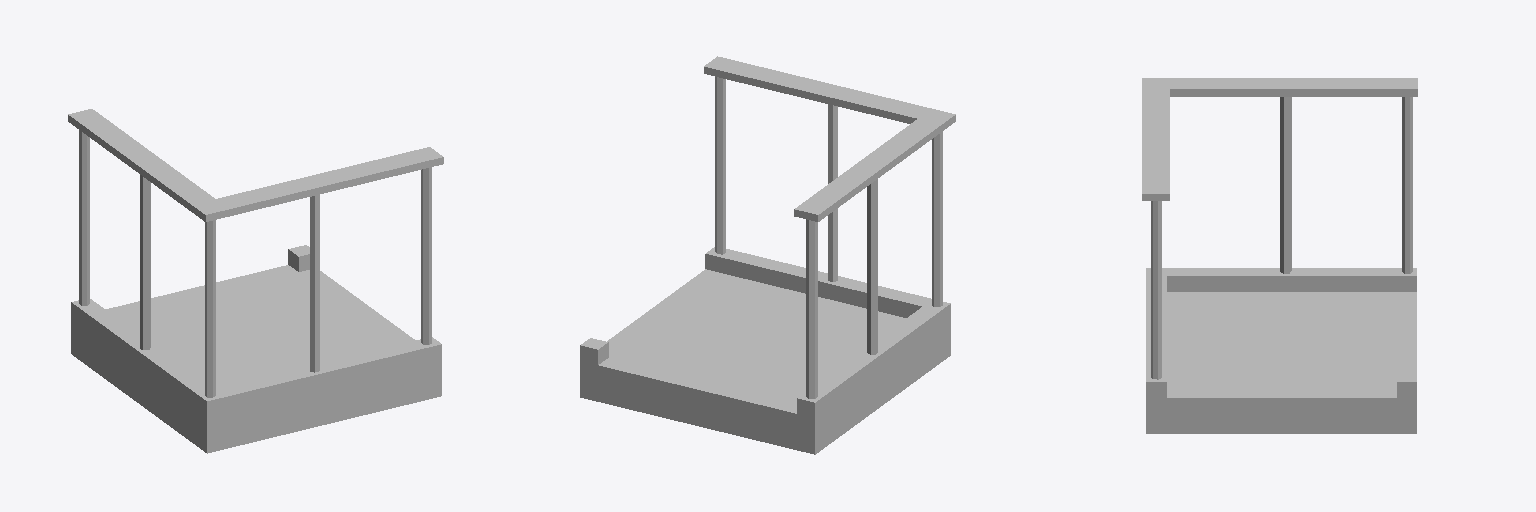
The model's file is Catwalk_Corner_02.obj.
3 renders of one model, left to right at view 1: azimuth 30°, elevation 25°; view 2: azimuth 150°, elevation 25°; view 3: azimuth 270°, elevation 25°, orthographic.
Visible parts, largest first — view 1: Rail_Corner; view 2: Rail_Corner; view 3: Rail_Corner.
Boxes of the visible parts, box(x1,y1,x2,y2) form: Rail_Corner: box(68, 109, 443, 453); Rail_Corner: box(580, 56, 955, 454); Rail_Corner: box(1142, 78, 1417, 433).
Bounding box in the file's own units: 150 × 144 × 150.